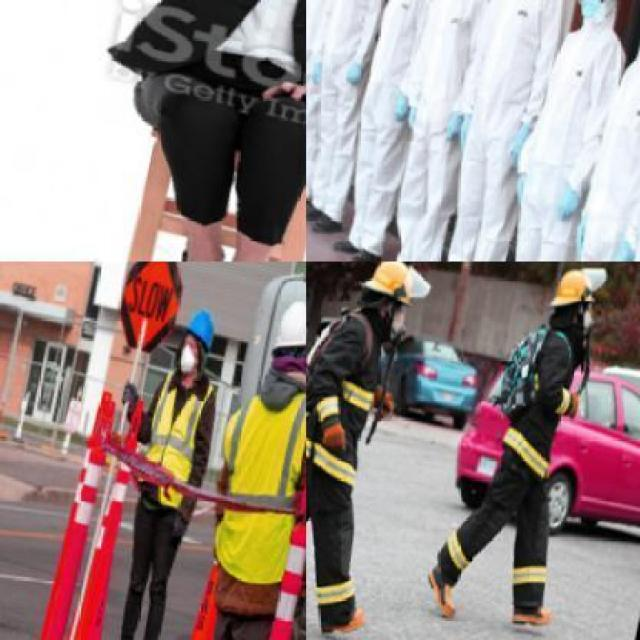vest: (424, 0, 576, 260), (491, 3, 635, 260), (377, 0, 494, 260), (338, 0, 444, 238), (196, 372, 304, 594), (488, 300, 598, 497), (552, 28, 638, 260), (306, 0, 396, 203), (306, 302, 399, 478), (129, 358, 217, 517), (306, 0, 349, 160)
